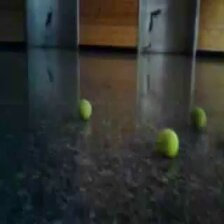tennis: (157, 129, 179, 157), (191, 109, 208, 131), (76, 99, 92, 121)
